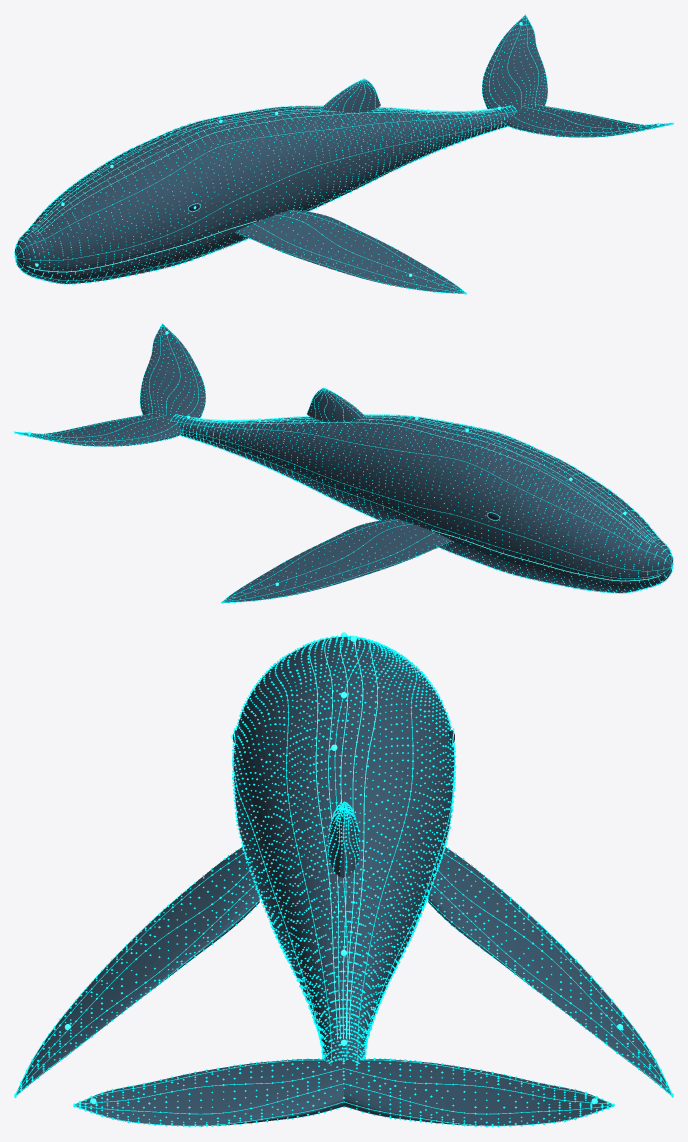
Rendered from dm_creature_lookdev.glb.
3 views of the same model, one above another, from view 1: azimuth 30°, elevation 25°; view 2: azimuth 150°, elevation 25°; view 3: azimuth 270°, elevation 25° (orthographic). The views are drawn at different scales.
Visible parts, largest first — view 1: DM_Body, DM_Pectoral_L, FX_StaticDots, DM_Fluke_R, FX_flow, DM_Fluke_L, FX_accent, DM_Dorsal; view 2: DM_Body, DM_Pectoral_R, FX_StaticDots, DM_Fluke_L, FX_flow, DM_Fluke_R, FX_accent, DM_Dorsal; view 3: DM_Body, FX_StaticDots, DM_Pectoral_L, DM_Pectoral_R, DM_Fluke_L, DM_Fluke_R, FX_flow, FX_accent, DM_Dorsal.
Boxes of the visible parts, x1=… form: DM_Body: x1=15, y1=106, x2=516, y2=283; DM_Pectoral_L: x1=236, y1=210, x2=464, y2=293; FX_StaticDots: x1=14, y1=14, x2=673, y2=294; DM_Fluke_R: x1=482, y1=15, x2=547, y2=108; FX_flow: x1=14, y1=15, x2=672, y2=294; DM_Fluke_L: x1=505, y1=105, x2=671, y2=137; FX_accent: x1=27, y1=105, x2=495, y2=272; DM_Dorsal: x1=321, y1=80, x2=380, y2=112; DM_Body: x1=171, y1=415, x2=672, y2=592; DM_Pectoral_R: x1=223, y1=519, x2=451, y2=602; FX_StaticDots: x1=14, y1=323, x2=673, y2=603; DM_Fluke_L: x1=140, y1=324, x2=205, y2=418; FX_flow: x1=16, y1=324, x2=673, y2=603; DM_Fluke_R: x1=16, y1=413, x2=182, y2=446; FX_accent: x1=192, y1=414, x2=660, y2=581; DM_Dorsal: x1=307, y1=388, x2=366, y2=421; DM_Body: x1=233, y1=637, x2=454, y2=1063; FX_StaticDots: x1=14, y1=635, x2=673, y2=1127; DM_Pectoral_L: x1=16, y1=847, x2=259, y2=1094; DM_Pectoral_R: x1=428, y1=847, x2=670, y2=1094; DM_Fluke_L: x1=75, y1=1059, x2=343, y2=1126; DM_Fluke_R: x1=344, y1=1059, x2=612, y2=1126; FX_flow: x1=15, y1=637, x2=671, y2=1126; FX_accent: x1=233, y1=635, x2=454, y2=1039; DM_Dorsal: x1=329, y1=803, x2=358, y2=877.
Bounding box in the file's own units: 11.56 × 2.89 × 6.19.
